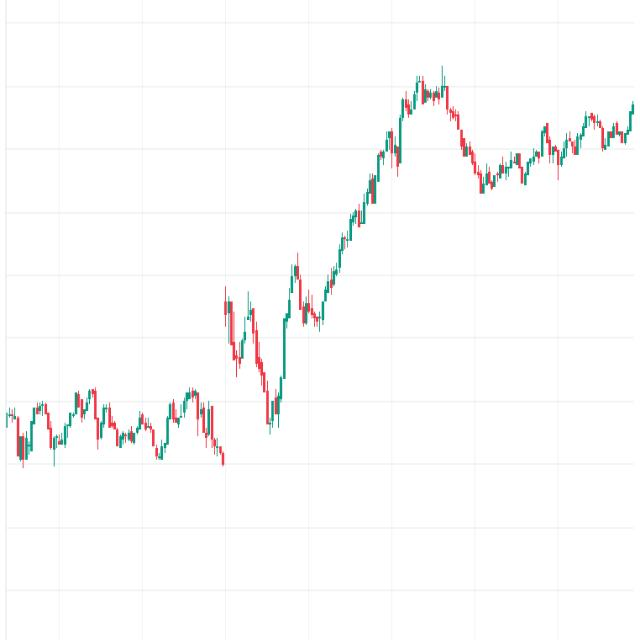Rising-Wedge: (205, 60, 427, 470)
